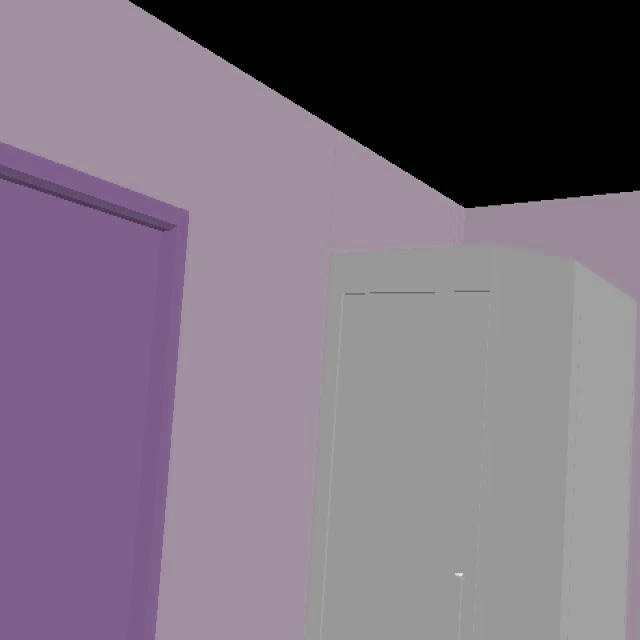shower: (305, 245, 639, 640)
